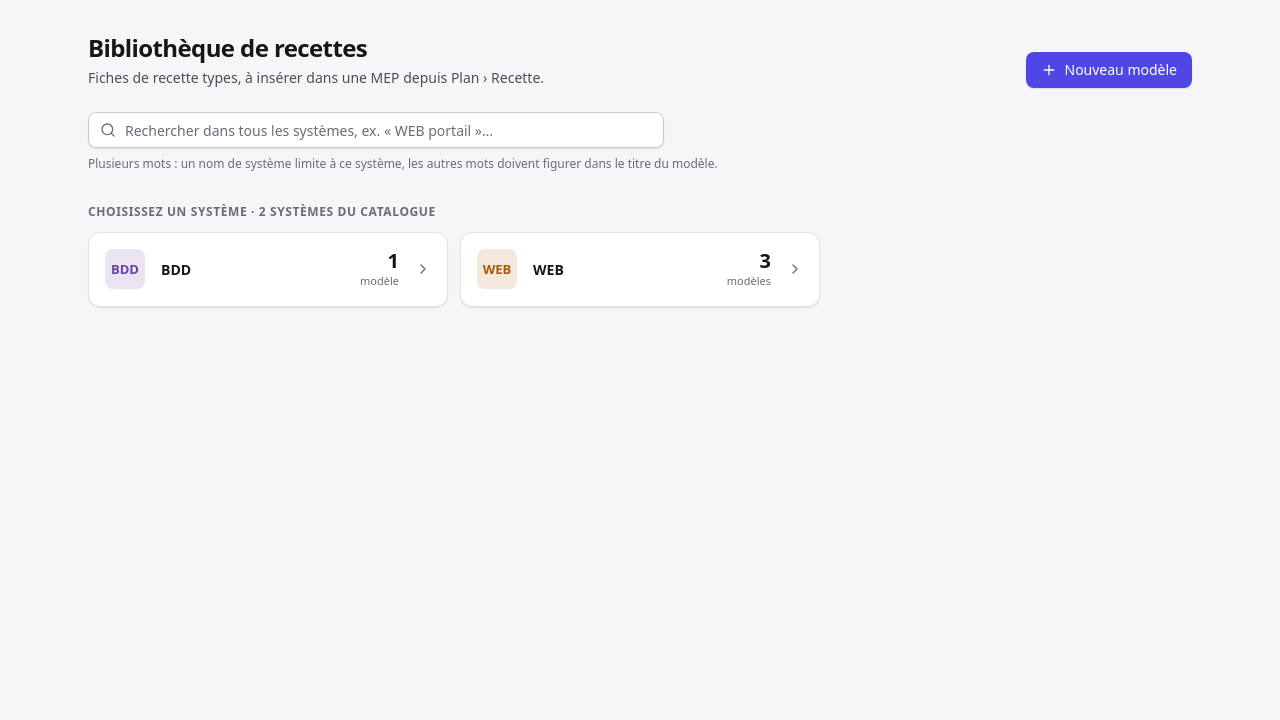
Test: Bibliothèque de recettes › exige le système d’un nouveau modèle créé depuis l’accueil
Expected: the link with aria-label "WEB : 3 modèles" is shown, [460, 232, 820, 306]
Click the button "Nouveau modèle".
click(1109, 70)  # box [1026, 52, 1192, 88]
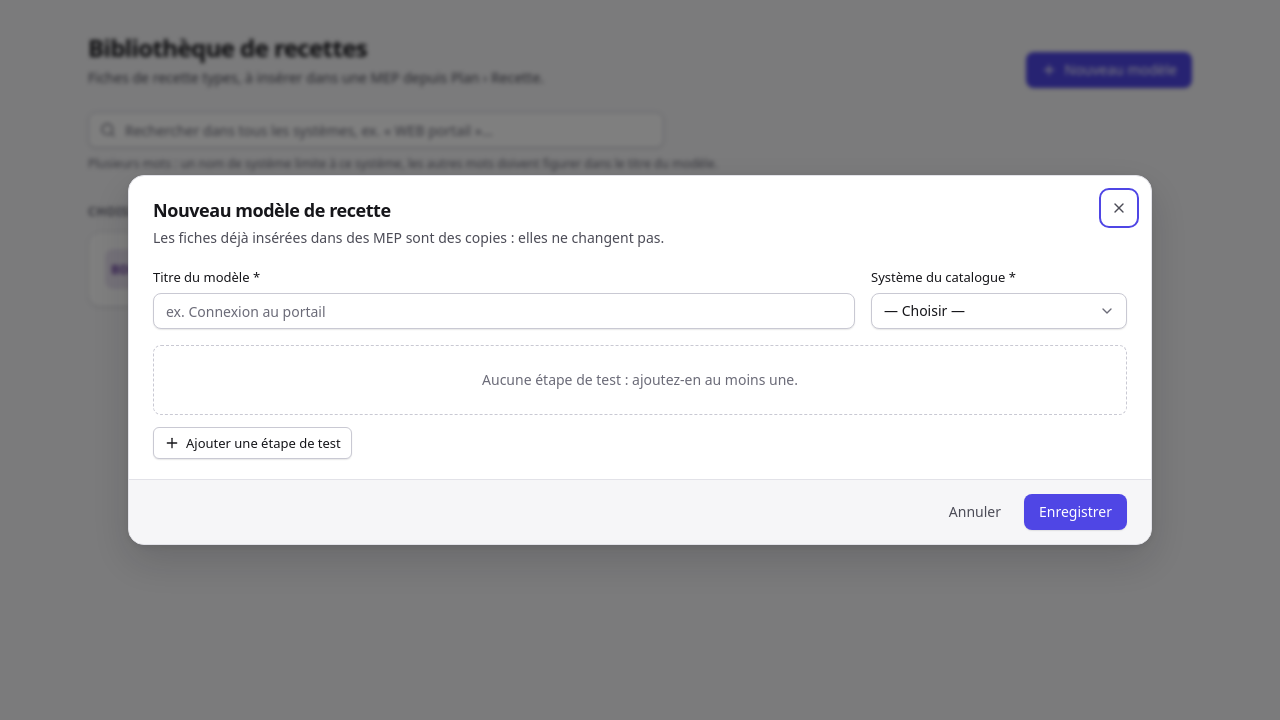
Type "Santé API" into the field labelled "Titre du modèle *".
click(504, 311); type("Santé API")  # box [153, 293, 855, 329]
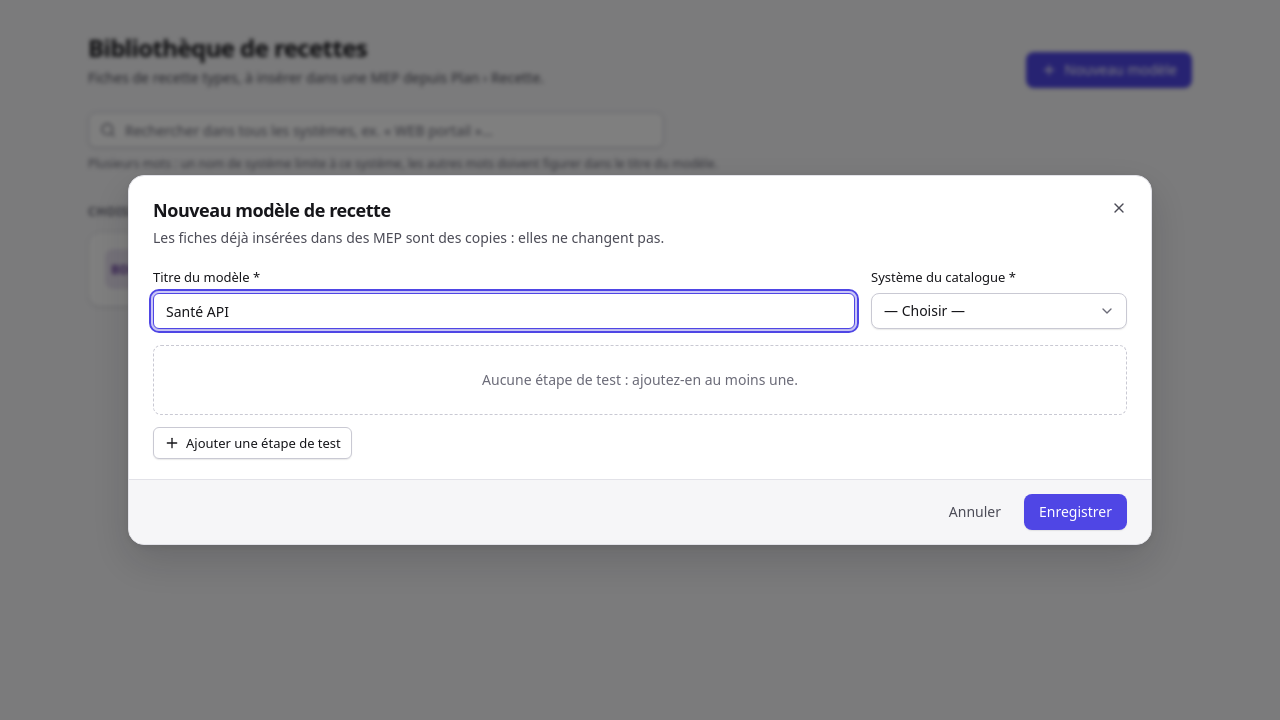
Click the button "Enregistrer".
click(1076, 512)  # box [1024, 494, 1127, 530]
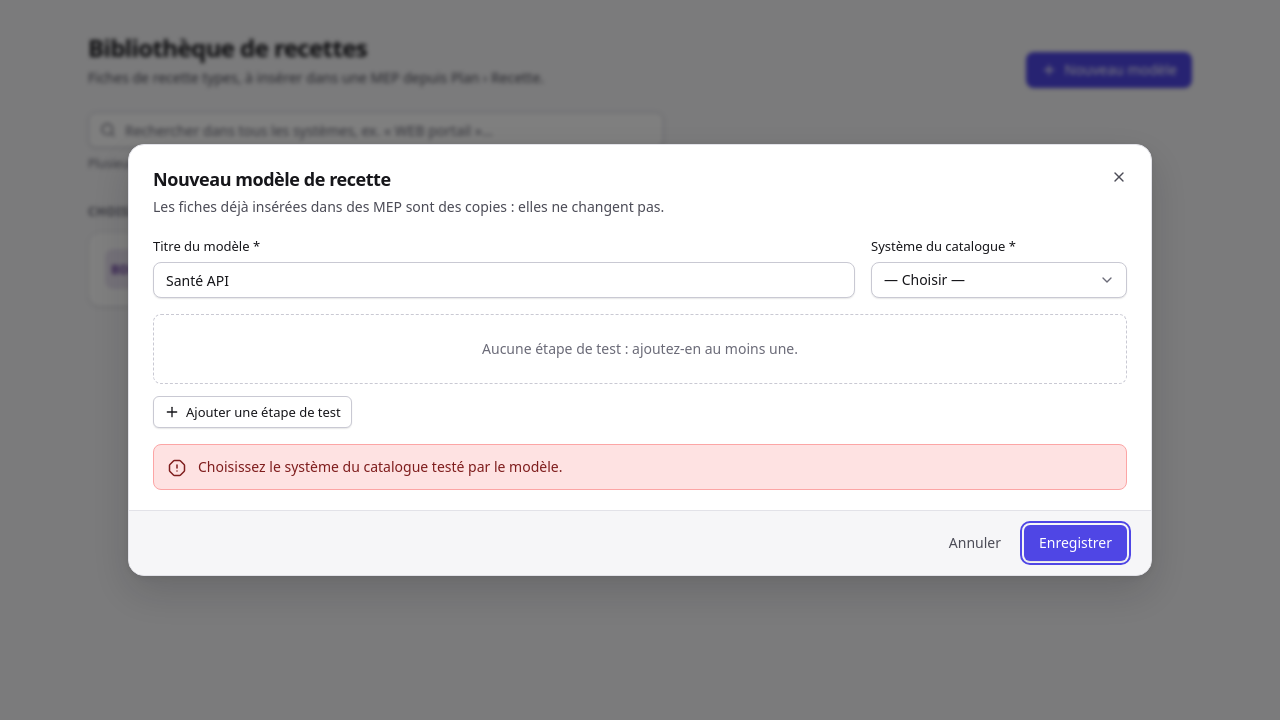
Now the message shows "Choisissez le système du catalogue", box [198, 457, 562, 476]
